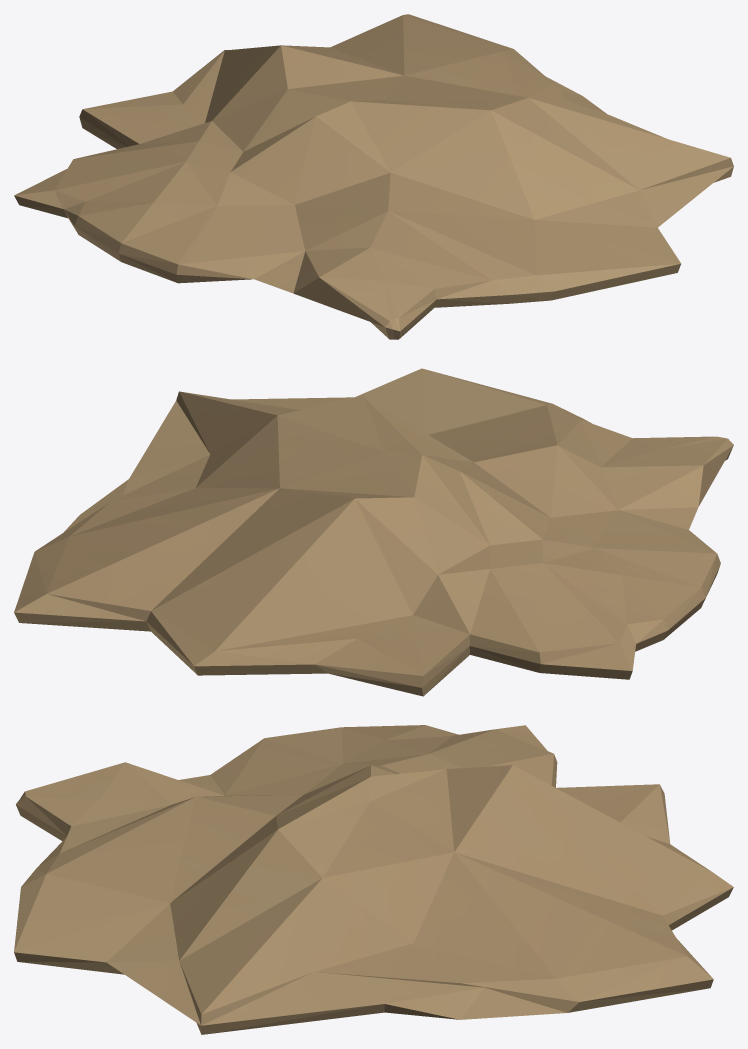
File: dirt_cluster_brown_2.obj
3 renders of one model, top to bottom at view 1: azimuth 30°, elevation 25°; view 2: azimuth 150°, elevation 25°; view 3: azimuth 270°, elevation 25°, orthographic. The views are drawn at different scales.
Visible parts, largest first — view 1: dirt_cluster_brown_2_Mesh; view 2: dirt_cluster_brown_2_Mesh; view 3: dirt_cluster_brown_2_Mesh.
Part boxes in pixels (box(x1,y1,x2,y2)): dirt_cluster_brown_2_Mesh: box(14, 14, 733, 339); dirt_cluster_brown_2_Mesh: box(14, 368, 733, 696); dirt_cluster_brown_2_Mesh: box(14, 725, 733, 1034).
Bounding box in the file's own units: 0.756 × 0.1274 × 0.7654.
